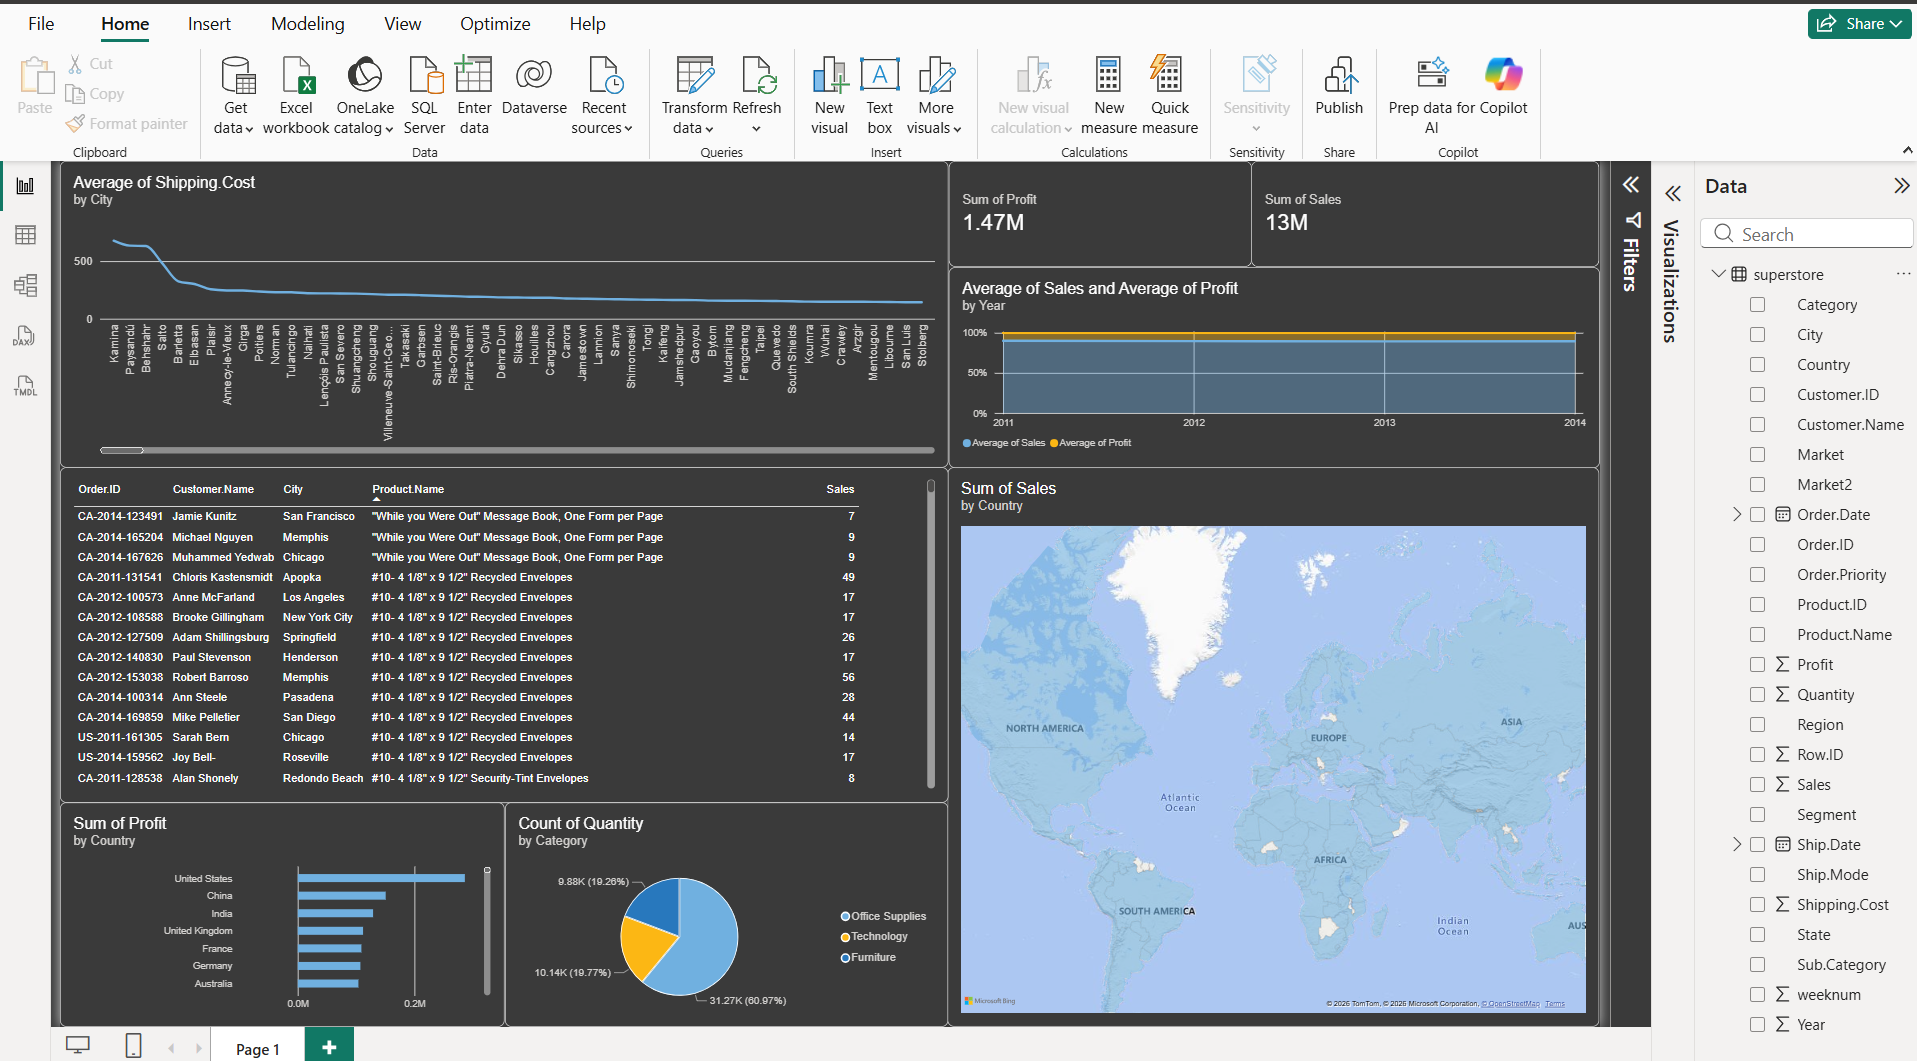

The dashboard page shown, as its layout file describes it:
{"tool":"powerbi","page":{"name":"Page 1","canvas":[1920,1080],"ordinal":0},"visuals":[{"type":"barChart","fields":{"Category":["superstore.Country"],"Y":["Sum(superstore.Profit)"]},"box":[0,800,554,280],"z":0},{"type":"pieChart","fields":{"Category":["superstore.Category"],"Y":["CountNonNull(superstore.Quantity)"]},"box":[555,800,552.5,280],"z":1},{"type":"filledMap","fields":{"Category":["superstore.Country"]},"box":[1107.5,382.5,812.5,697.5],"z":2},{"type":"tableEx","fields":{"Values":["superstore.Order.ID","superstore.Customer.Name","superstore.City","superstore.Product.Name","superstore.Sales"]},"box":[0,382,1108,418],"z":3},{"type":"lineChart","fields":{"Category":["superstore.City"],"Y":["Avg(superstore.Shipping.Cost)"]},"box":[0,0,1108,382],"z":4},{"type":"cardVisual","fields":{"Data":["Sum(superstore.Profit)"]},"box":[1108,0,378,132],"z":5},{"type":"cardVisual","fields":{"Data":["Sum(superstore.Sales)"]},"box":[1486,0,434,132],"z":6},{"type":"hundredPercentStackedAreaChart","fields":{"Category":["superstore.Year"],"Y":["Avg(superstore.Sales)","Avg(superstore.Profit)"]},"box":[1108,132,812,250],"z":7}]}

Visuals, with their boxes on the page's 1920x1080 design canvas (x1, y1, x2, y2). These are canvas units, not pixel positions in the 1917x1061 screenshot, which may show the page scaled, cropped or inside an application window:
barChart - superstore.Country x Sum(superstore.Profit): crop(0, 800, 554, 1080)
pieChart - superstore.Category x CountNonNull(superstore.Quantity): crop(555, 800, 1108, 1080)
filledMap - superstore.Country: crop(1108, 382, 1920, 1080)
tableEx - superstore.Order.ID x superstore.Customer.Name: crop(0, 382, 1108, 800)
lineChart - superstore.City x Avg(superstore.Shipping.Cost): crop(0, 0, 1108, 382)
cardVisual - Sum(superstore.Profit): crop(1108, 0, 1486, 132)
cardVisual - Sum(superstore.Sales): crop(1486, 0, 1920, 132)
hundredPercentStackedAreaChart - superstore.Year x Avg(superstore.Sales): crop(1108, 132, 1920, 382)
